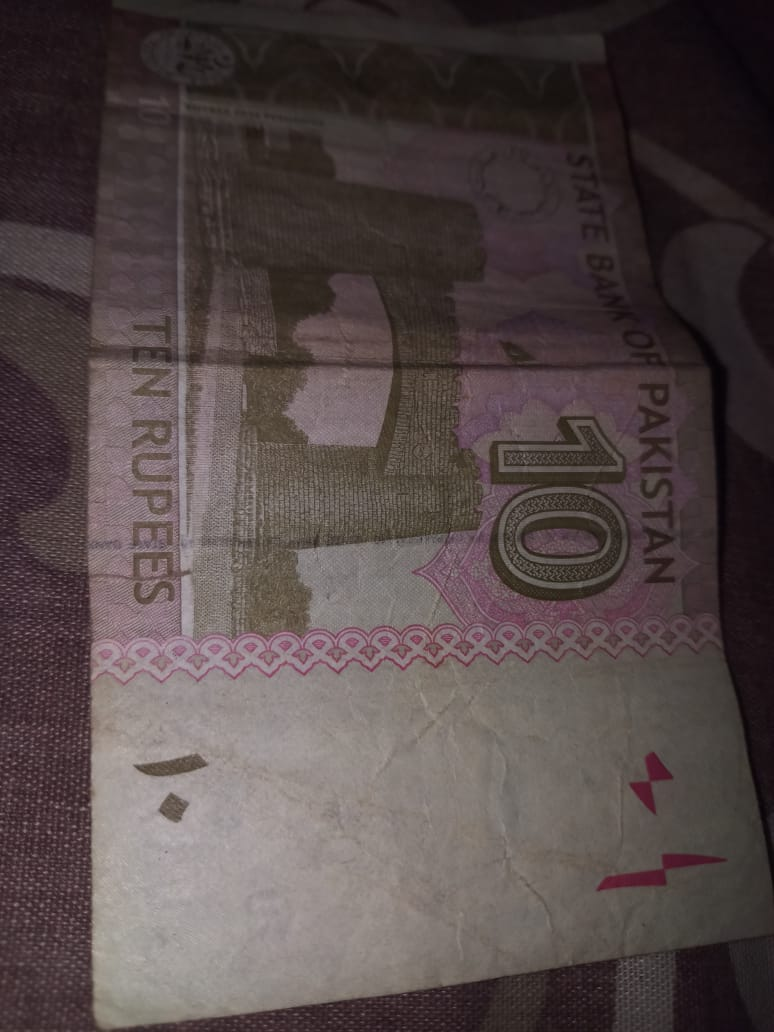10 rupee: (99, 57, 762, 1030)
